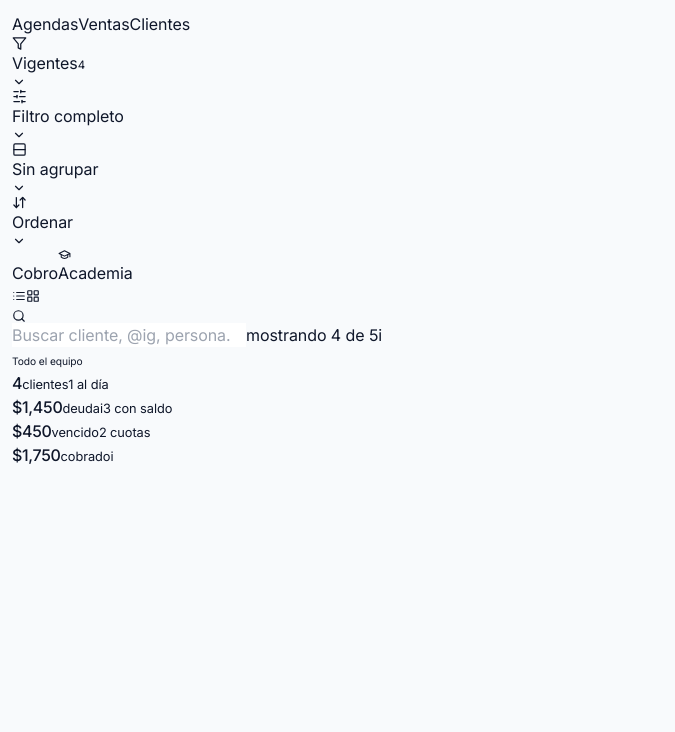
Test: Totales · Clientes › el filtro rápido «Con deuda» cambia todos los números de la tira
Step 1. Click the button "Vigentes4" → (49, 62), box [12,36,85,89]
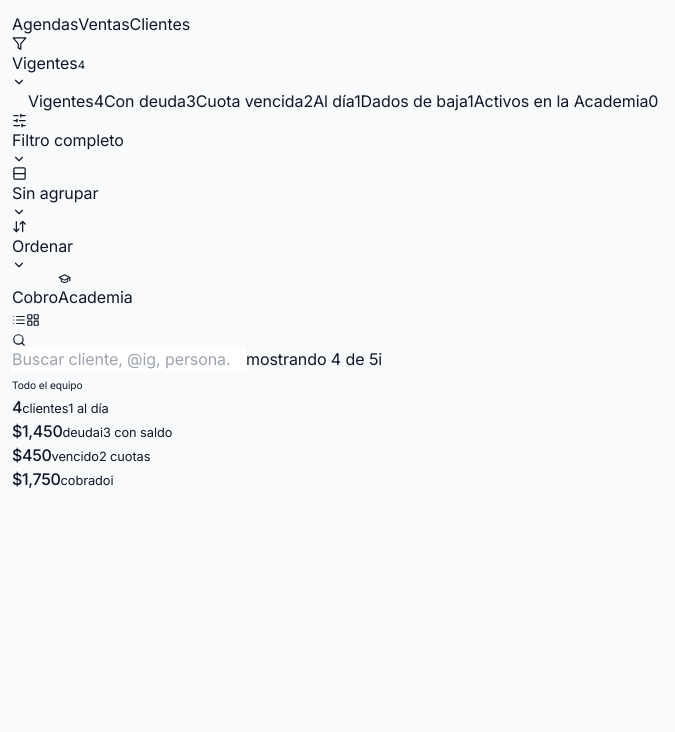
Step 2. Click the menu item "Con deuda3" → (150, 101), box [104,89,196,113]
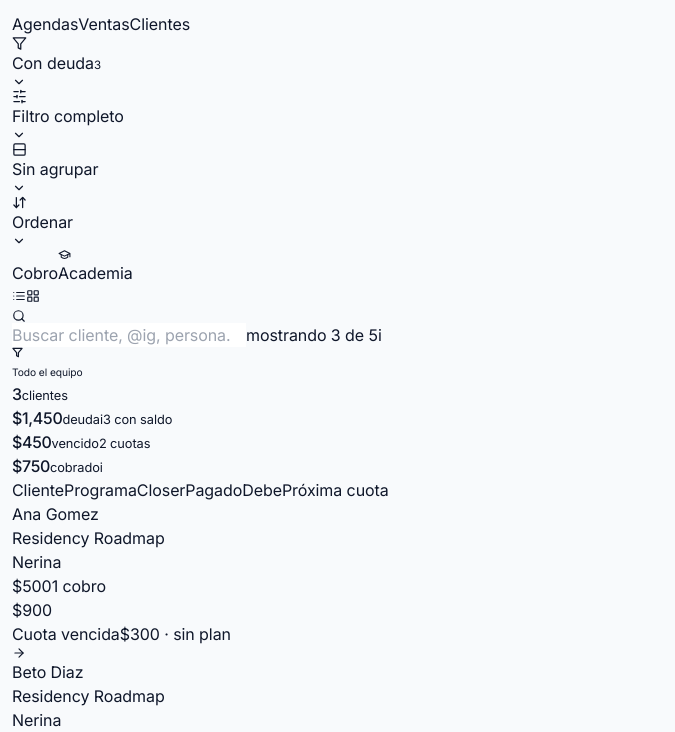
Result: the number of buttons named "Abrir " is 3
Result: the text "mostrando 3 de 5" is shown at [246,325,378,345]
